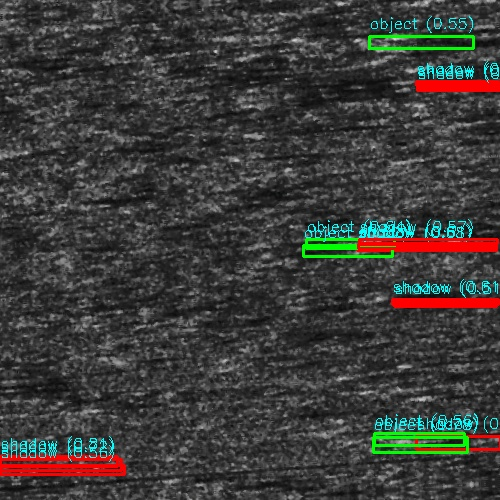rock: (390, 34, 463, 53), (374, 439, 467, 452), (314, 247, 387, 252), (351, 239, 404, 242), (395, 88, 436, 91)
shadow: (427, 34, 500, 53), (0, 463, 124, 472), (421, 439, 500, 452), (351, 247, 500, 252), (378, 239, 496, 242), (416, 88, 500, 91), (394, 303, 500, 304)
